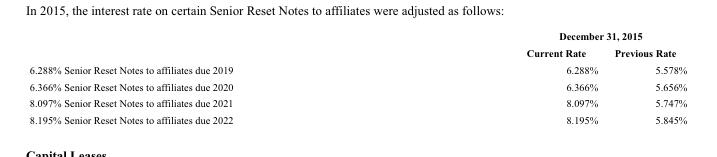table: (28, 28, 686, 126)
table column: (28, 28, 379, 126), (379, 28, 605, 126), (605, 28, 686, 126)
table column header: (28, 28, 686, 60)
table row: (28, 43, 686, 60), (28, 60, 686, 77), (28, 77, 686, 94), (28, 94, 686, 111), (28, 28, 686, 43), (28, 111, 686, 126)
table spanning cell: (379, 28, 686, 43)
